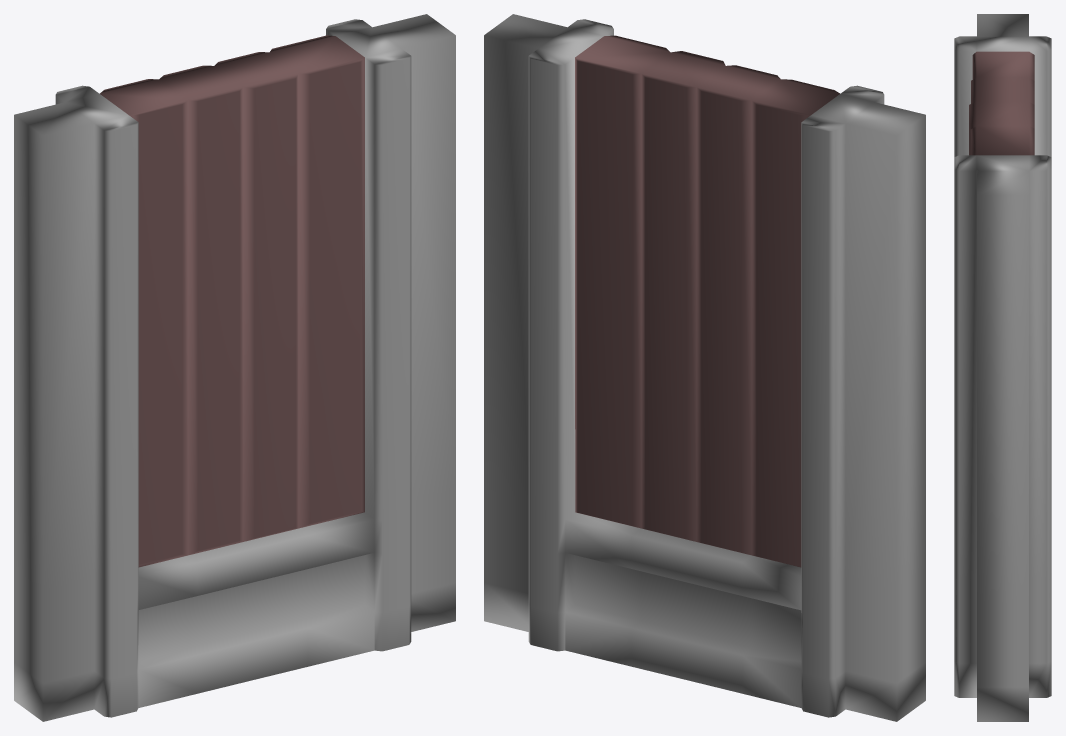
The model's file is Door_LP.fbx.
The picture shows the model from 3 angles, left to right: view 1: azimuth 30°, elevation 25°; view 2: azimuth 150°, elevation 25°; view 3: azimuth 270°, elevation 25°; orthographic projection. The views are drawn at different scales.
Visible parts, largest first — view 1: Door_LP; view 2: Door_LP; view 3: Door_LP.
Part boxes in pixels (x1,y1,x2,y2): Door_LP: [14, 14, 455, 721]; Door_LP: [484, 14, 925, 721]; Door_LP: [954, 14, 1051, 721].
Size of the model in its own units: 3.35 by 4.54 by 0.7621.
